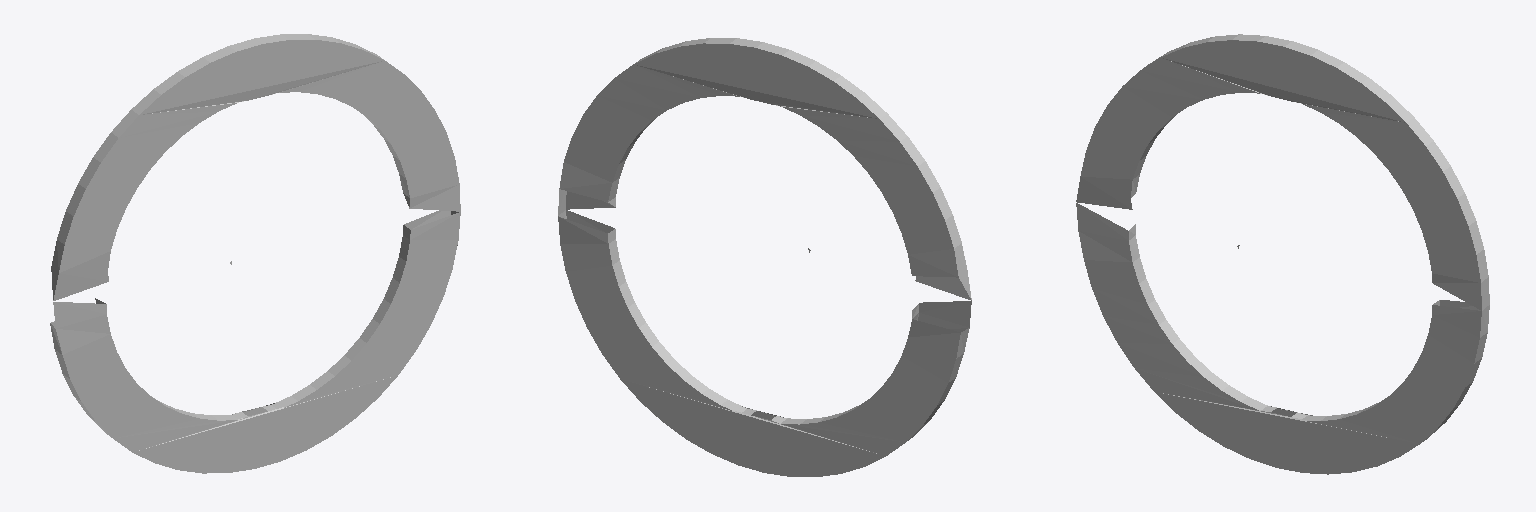
The model's file is cercle2.obj.
The picture shows the model from 3 angles: view 1: azimuth 30°, elevation 25°; view 2: azimuth 150°, elevation 25°; view 3: azimuth 330°, elevation 25°; orthographic projection.
Parts seen in each view (by area): view 1: NestedCircles; view 2: NestedCircles; view 3: NestedCircles.
Part boxes in pixels (x1,y1,x2,y2): NestedCircles: (50,34,460,473); NestedCircles: (558,38,971,476); NestedCircles: (1076,34,1489,474).
Size of the model in its own units: 7.94 by 7.89 by 0.5658.